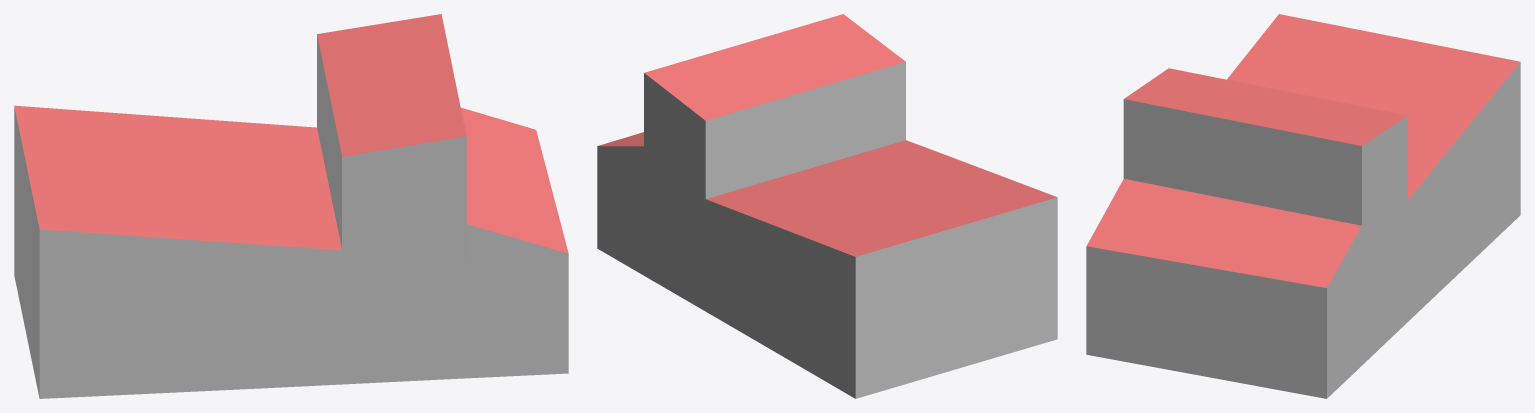
The model's file is DEBY_LOD2_4907138.gltf.
3 renders of one model, left to right at view 1: azimuth 30°, elevation 25°; view 2: azimuth 150°, elevation 25°; view 3: azimuth 270°, elevation 25°, orthographic. The views are drawn at different scales.
Visible parts, largest first — view 1: Z_UP; view 2: Z_UP; view 3: Z_UP.
Part boxes in pixels (x1,y1,x2,y2): Z_UP: (14, 14, 568, 398); Z_UP: (597, 14, 1057, 398); Z_UP: (1086, 14, 1520, 398).
Bounding box in the file's own units: 14.64 × 6.48 × 11.61.
